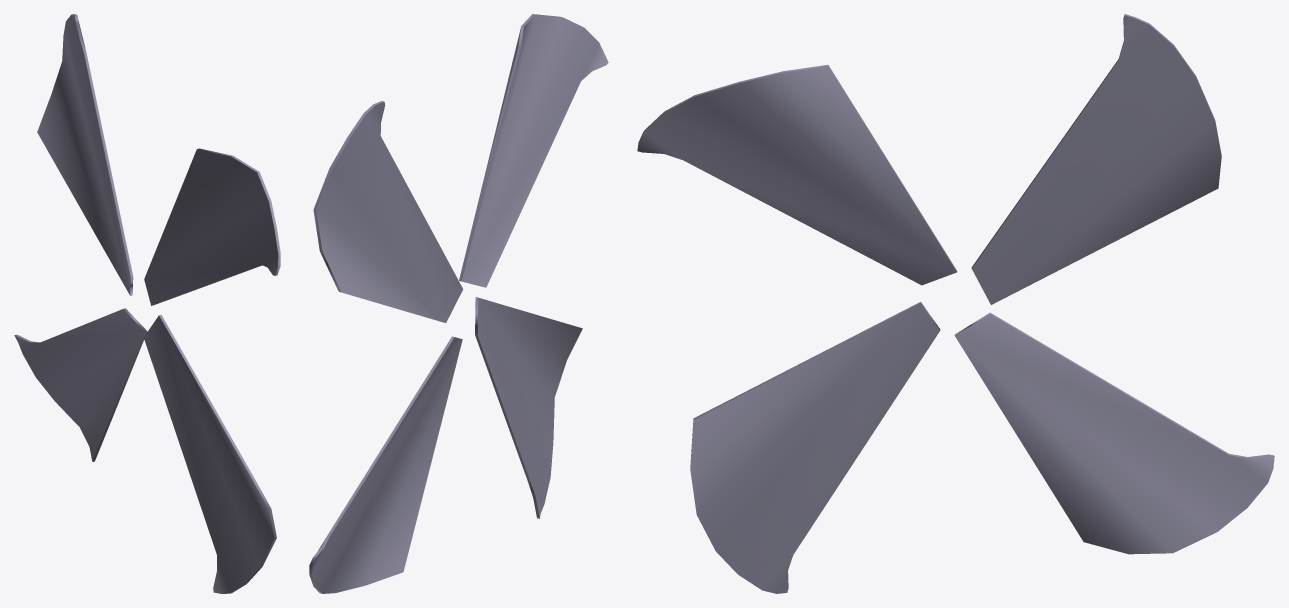
File: Astas.fbx
3 renders of one model, left to right at view 1: azimuth 30°, elevation 25°; view 2: azimuth 150°, elevation 25°; view 3: azimuth 270°, elevation 25°, orthographic. The views are drawn at different scales.
Visible parts, largest first — view 1: Astas; view 2: Astas; view 3: Astas.
Part boxes in pixels (box(x1,y1,x2,y2)): Astas: box(14, 14, 280, 593); Astas: box(309, 14, 608, 593); Astas: box(637, 14, 1274, 593).
Bounding box in the file's own units: 1.14 × 15.35 × 15.35.
